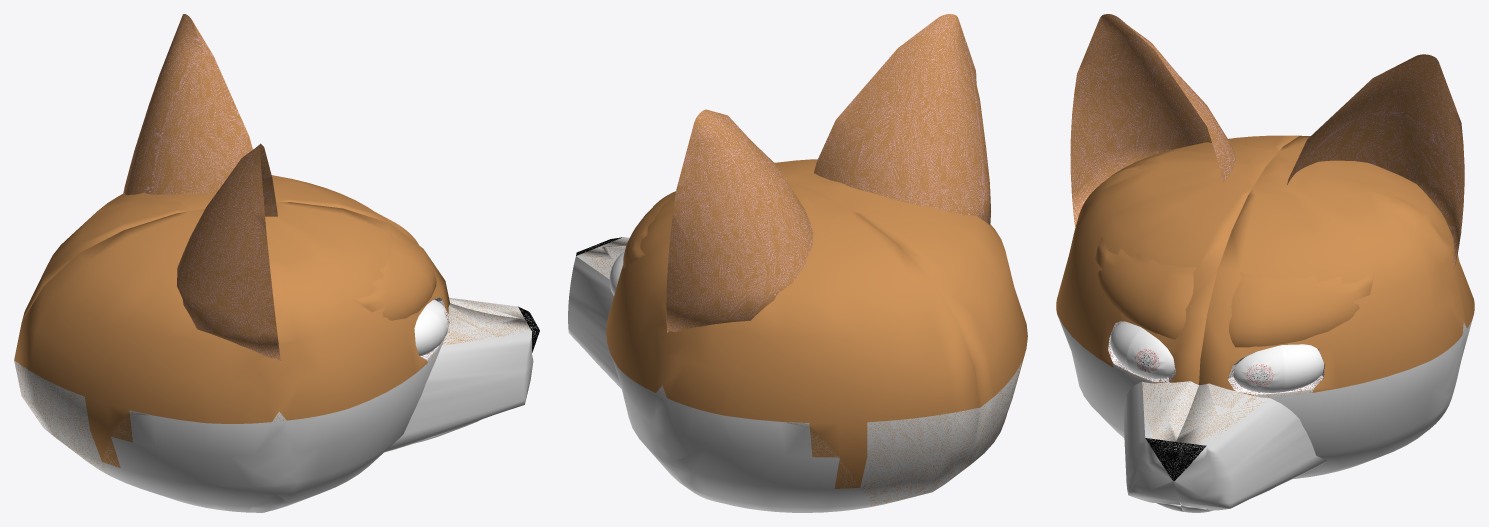
The model's file is angry dog head.dae.
3 views of the same model, side by side, from view 1: azimuth 30°, elevation 25°; view 2: azimuth 150°, elevation 25°; view 3: azimuth 270°, elevation 25° (orthographic). The views are drawn at different scales.
Parts seen in each view (by area): view 1: head_base (×4), Ears (×2), Component_1 (×3), eye_brow, Eyes_ball; view 2: head_base (×5), Ears (×2), Component_1 (×2), eye_brow; view 3: head_base (×4), Ears (×2), Component_1 (×6), eye_brow (×2), Eyes_ball (×2), Component_3.
Boxes of the visible parts, <box> form: head_base (×4): <box>14,175,449,512</box>; Ears (×2): <box>123,14,280,361</box>; Component_1 (×3): <box>384,297,533,452</box>; eye_brow: <box>352,233,436,320</box>; Eyes_ball: <box>414,299,448,356</box>; head_base (×5): <box>606,159,1027,512</box>; Ears (×2): <box>666,14,990,332</box>; Component_1 (×2): <box>568,246,625,388</box>; eye_brow: <box>623,191,675,268</box>; head_base (×4): <box>1056,135,1474,478</box>; Ears (×2): <box>1070,14,1464,266</box>; Component_1 (×6): <box>1123,381,1326,510</box>; eye_brow (×2): <box>1095,237,1375,347</box>; Eyes_ball (×2): <box>1110,321,1323,392</box>; Component_3: <box>1228,348,1324,394</box>.
Size of the model in its own units: 792 by 618 by 676.
